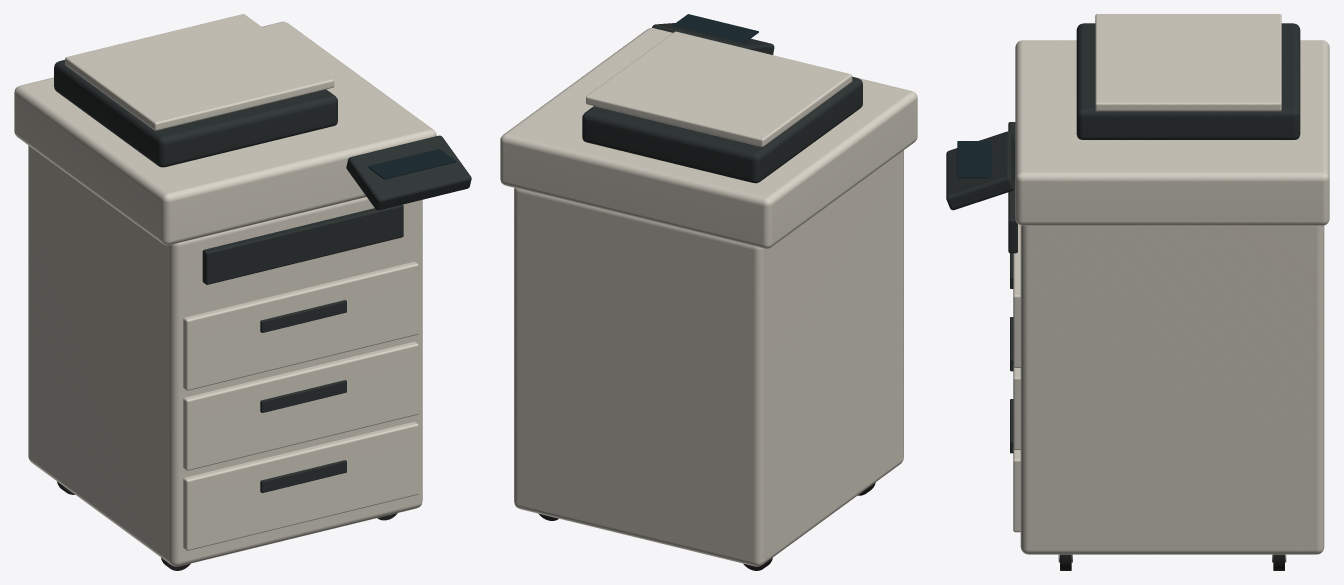
File: office-copier.glb
The picture shows the model from 3 angles, left to right: view 1: azimuth 30°, elevation 25°; view 2: azimuth 150°, elevation 25°; view 3: azimuth 270°, elevation 25°; orthographic projection. The views are drawn at different scales.
Visible parts, largest first — view 1: Copier main cabinet, Scanner housing, Feeder top tray, Removable paper drawer.002, Removable paper drawer.001, Removable paper drawer, Automatic document feeder, Output gap, Control console, Console display, Drawer handle recess.001, Drawer handle recess.002 (+1 smaller); view 2: Copier main cabinet, Scanner housing, Feeder top tray, Automatic document feeder, Console display, Control console; view 3: Copier main cabinet, Scanner housing, Feeder top tray, Automatic document feeder, Control console, Console display, Removable paper drawer.002, Output gap, Removable paper drawer, Removable paper drawer.001.
Boxes of the visible parts, <box> form: Copier main cabinet: <box>28,145,422,566</box>; Scanner housing: <box>14,21,436,245</box>; Feeder top tray: <box>65,14,334,130</box>; Removable paper drawer.002: <box>183,261,418,390</box>; Removable paper drawer.001: <box>183,341,418,470</box>; Removable paper drawer: <box>183,421,418,550</box>; Automatic document feeder: <box>54,60,337,167</box>; Output gap: <box>202,204,403,284</box>; Control console: <box>346,135,471,210</box>; Console display: <box>368,149,456,179</box>; Drawer handle recess.001: <box>260,380,346,412</box>; Drawer handle recess.002: <box>260,300,346,332</box>; Copier main cabinet: <box>514,150,903,566</box>; Scanner housing: <box>500,28,917,248</box>; Feeder top tray: <box>586,31,852,146</box>; Automatic document feeder: <box>582,77,862,183</box>; Console display: <box>672,14,758,43</box>; Control console: <box>652,23,774,54</box>; Copier main cabinet: <box>1020,225,1324,554</box>; Scanner housing: <box>1015,40,1329,225</box>; Feeder top tray: <box>1095,14,1281,111</box>; Automatic document feeder: <box>1076,23,1300,139</box>; Control console: <box>946,131,1014,210</box>; Console display: <box>957,141,991,178</box>; Removable paper drawer.002: <box>1013,224,1020,367</box>; Output gap: <box>1008,122,1017,253</box>; Removable paper drawer: <box>1013,449,1020,532</box>; Removable paper drawer.001: <box>1013,367,1020,449</box>.
Bounding box in the file's own units: 0.61 × 0.928 × 0.7196.
Materials: 5 (5 with a texture image).
